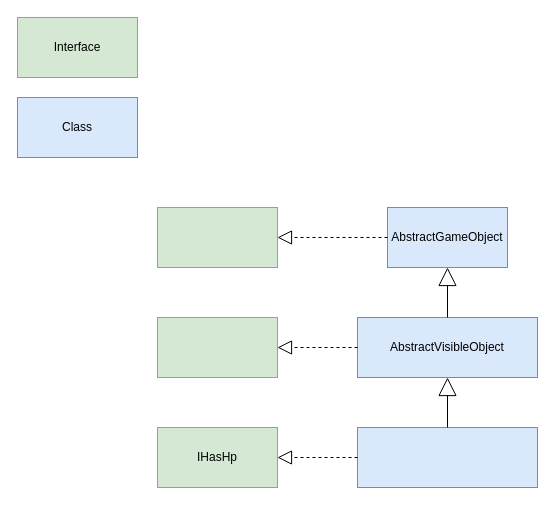
Image size: 555x505. Some labels were removed from this diagram. The box of each missing label's shape, as (x1, y1, x2, y2) in pixels:
AbstracLivingObject: (356, 426, 538, 488)
IHasPosition: (156, 206, 278, 268)
IHasTexture: (156, 316, 278, 378)
